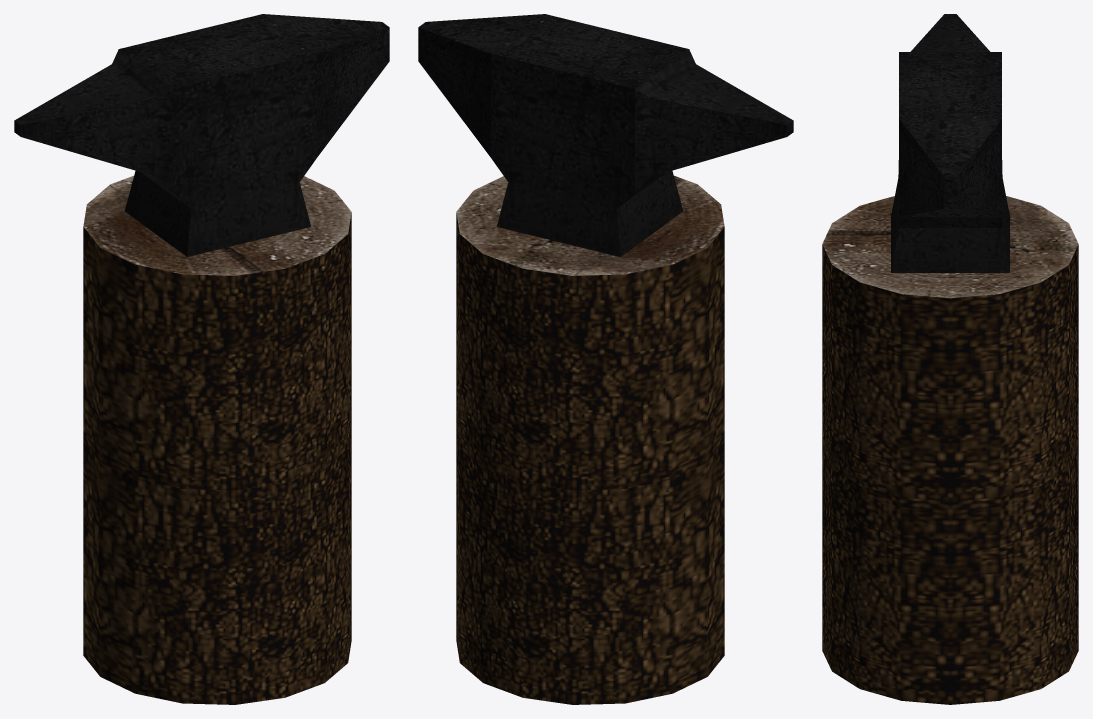
Rendered from Anvil.fbx.
3 views of the same model, side by side, from view 1: azimuth 30°, elevation 25°; view 2: azimuth 150°, elevation 25°; view 3: azimuth 270°, elevation 25° (orthographic). The views are drawn at different scales.
Parts seen in each view (by area): view 1: Anvil; view 2: Anvil; view 3: Anvil.
Boxes of the visible parts, left/top/right/bottom form: Anvil: left=14, top=14, right=389, bottom=704; Anvil: left=418, top=14, right=793, bottom=704; Anvil: left=822, top=14, right=1078, bottom=704.
Size of the model in its own units: 0.6288 by 0.9735 by 0.4.
